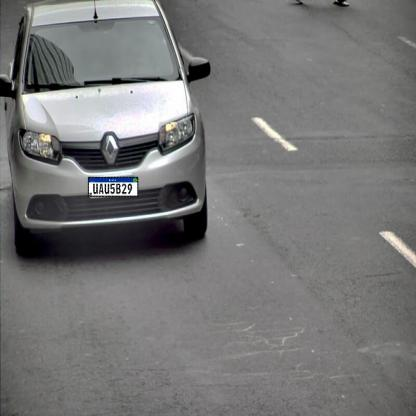PlacaM: (88, 177, 138, 197)
